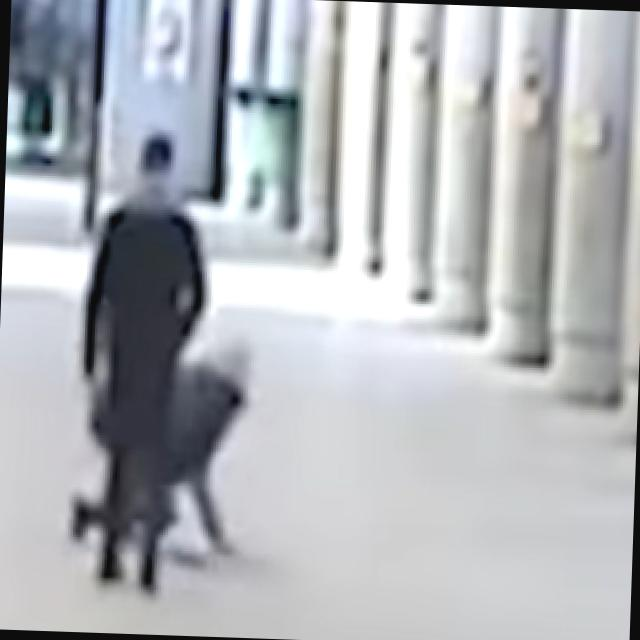person: (73, 132, 214, 594)
